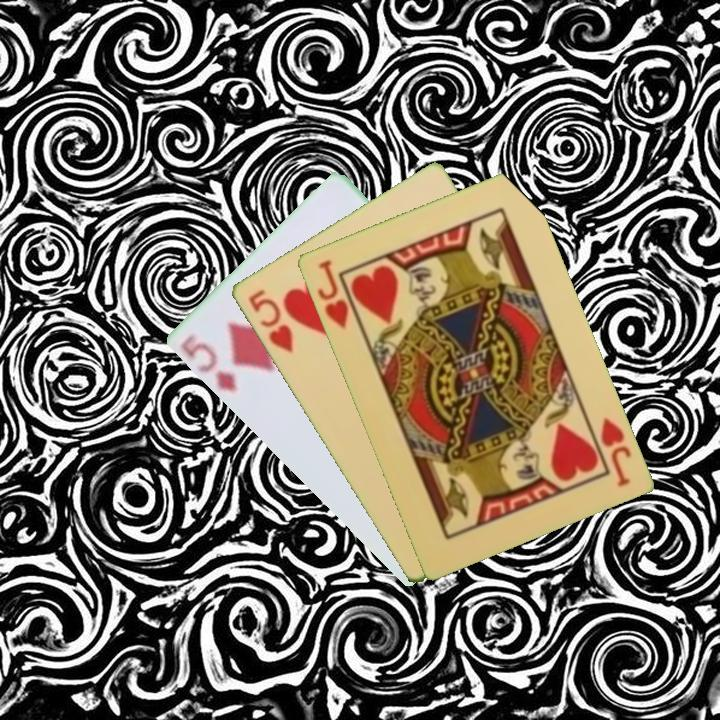5d: (176, 335, 241, 395)
5h: (244, 285, 296, 355)
Jh: (313, 256, 351, 332), (596, 414, 634, 490)
